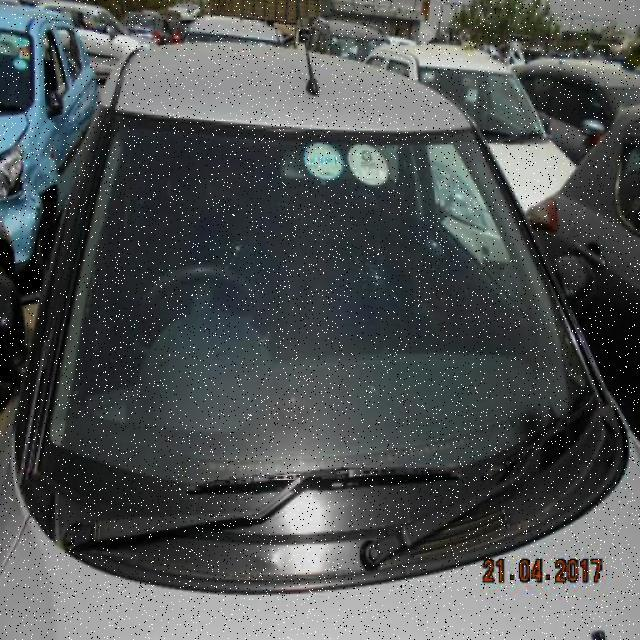car damage: (215, 227, 250, 267), (362, 264, 385, 288), (422, 237, 445, 260)
